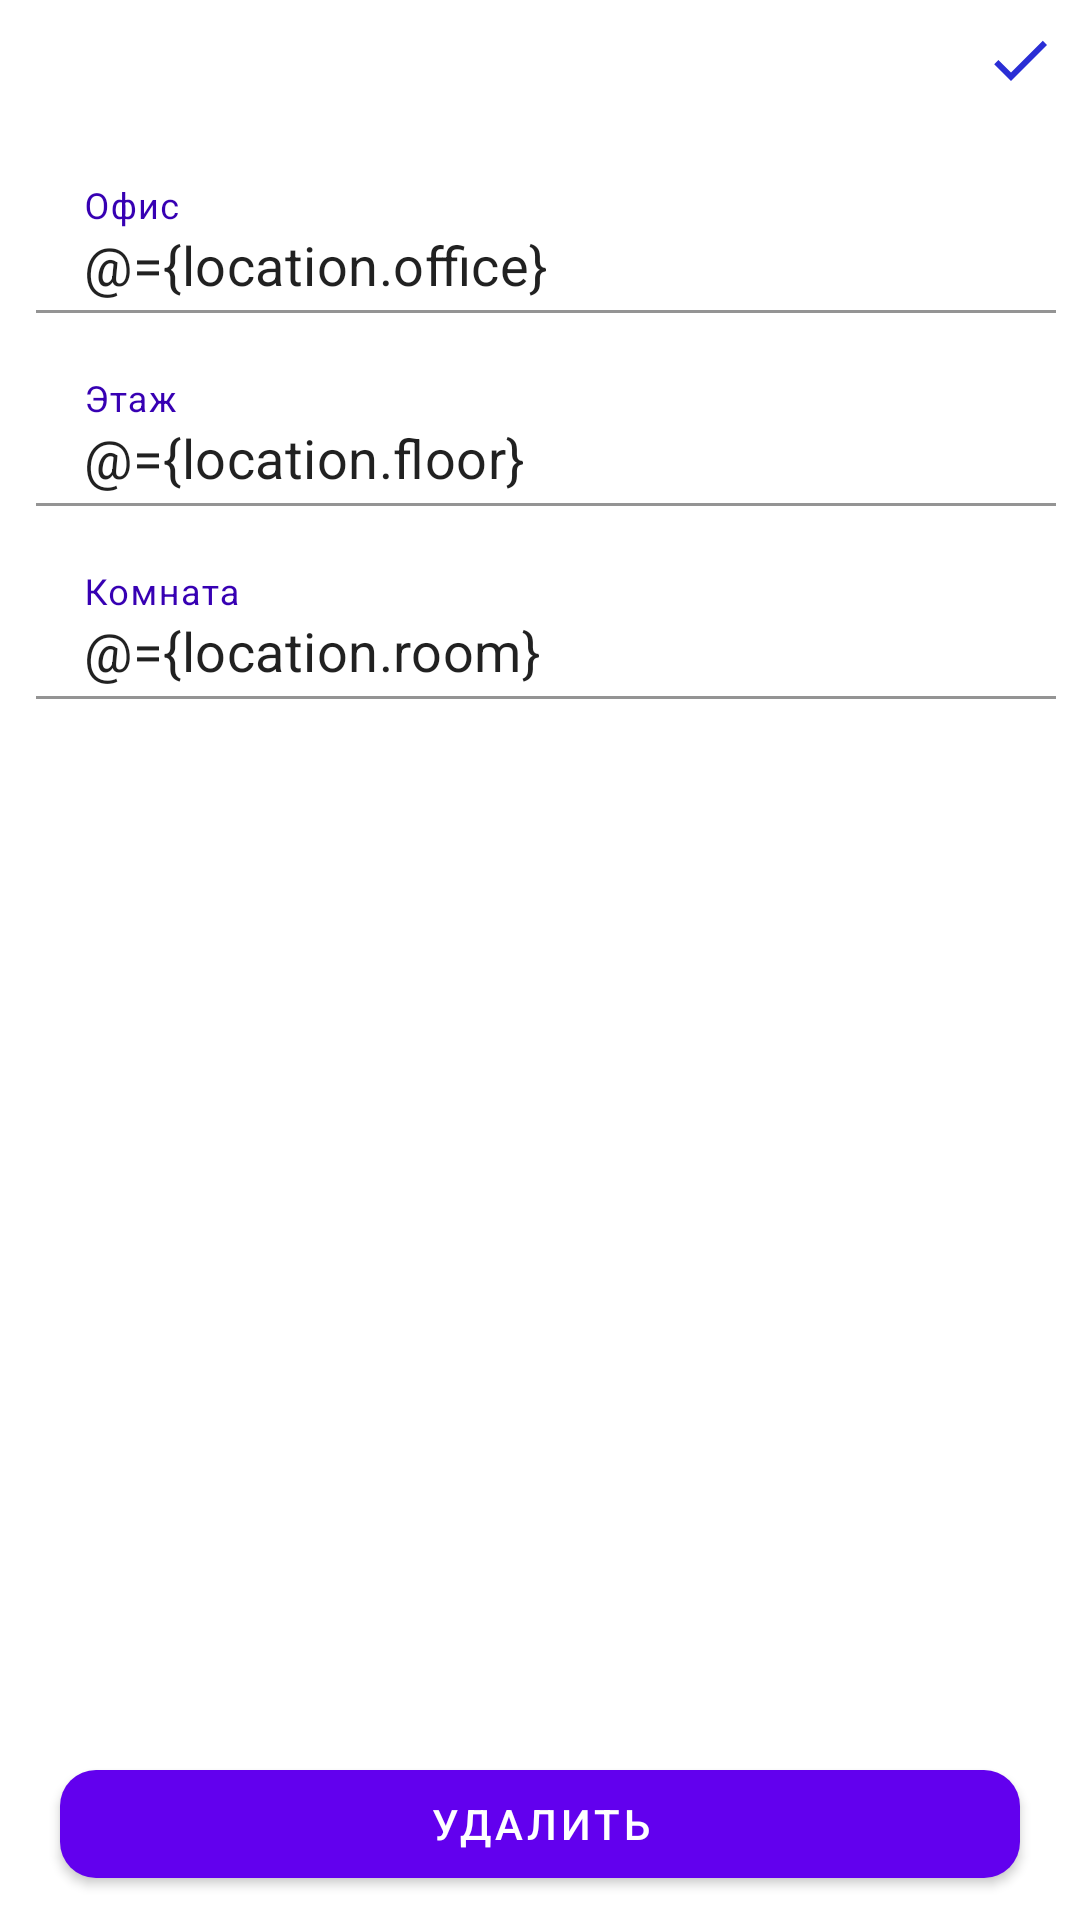

Icon bounding boxes for this 1080px x 1920px phone screenshot, format rect(x1, y1, x2, y2):
done: rect(994, 41, 1047, 81)
